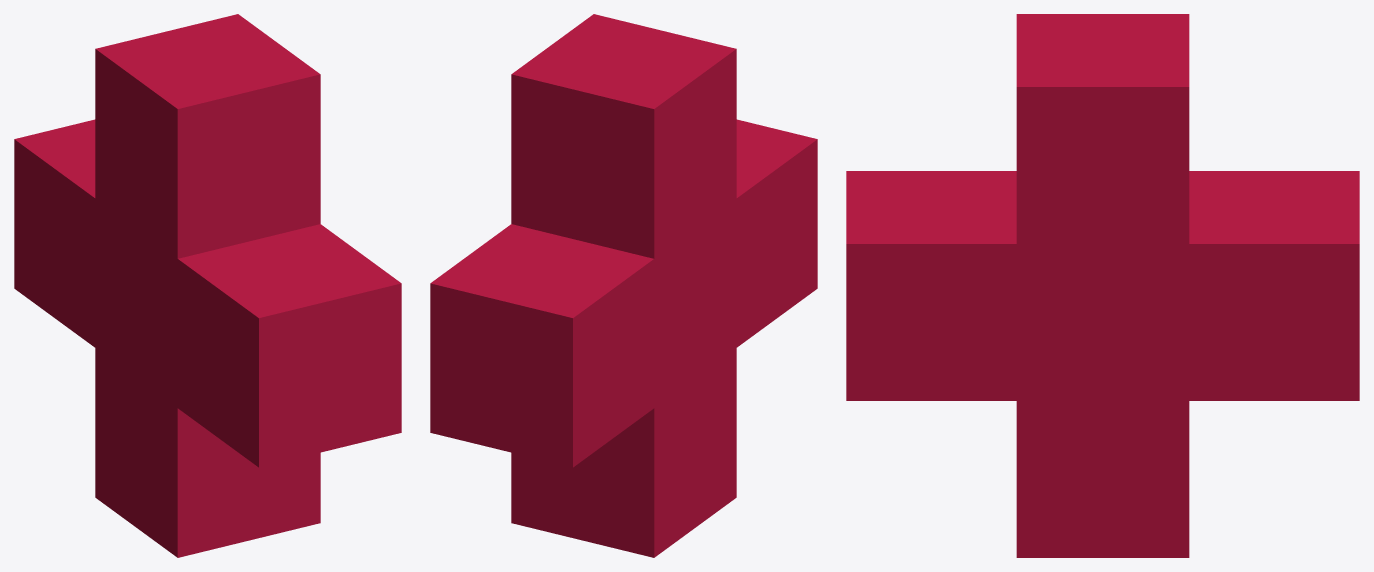
Rendered from health.glb.
3 views of the same model, side by side, from view 1: azimuth 30°, elevation 25°; view 2: azimuth 150°, elevation 25°; view 3: azimuth 270°, elevation 25° (orthographic). The views are drawn at different scales.
Parts seen in each view (by area): view 1: Cube; view 2: Cube; view 3: Cube.
Boxes of the visible parts, x1=… form: Cube: x1=14, y1=14, x2=401, y2=557; Cube: x1=430, y1=14, x2=817, y2=557; Cube: x1=846, y1=14, x2=1359, y2=557.
Size of the model in its own units: 0.776 by 2.33 by 2.3.
